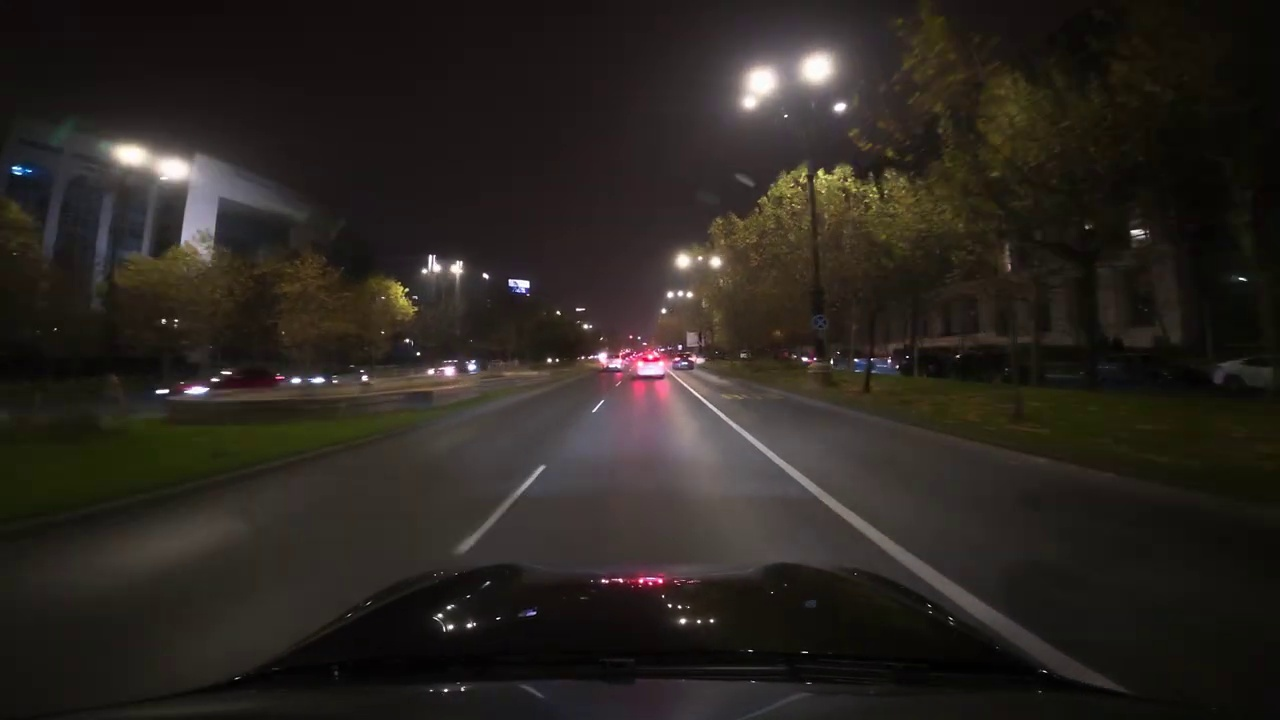acesa: (112, 146, 191, 187), (739, 64, 780, 109), (112, 141, 153, 174), (798, 51, 835, 86), (673, 249, 697, 273)
